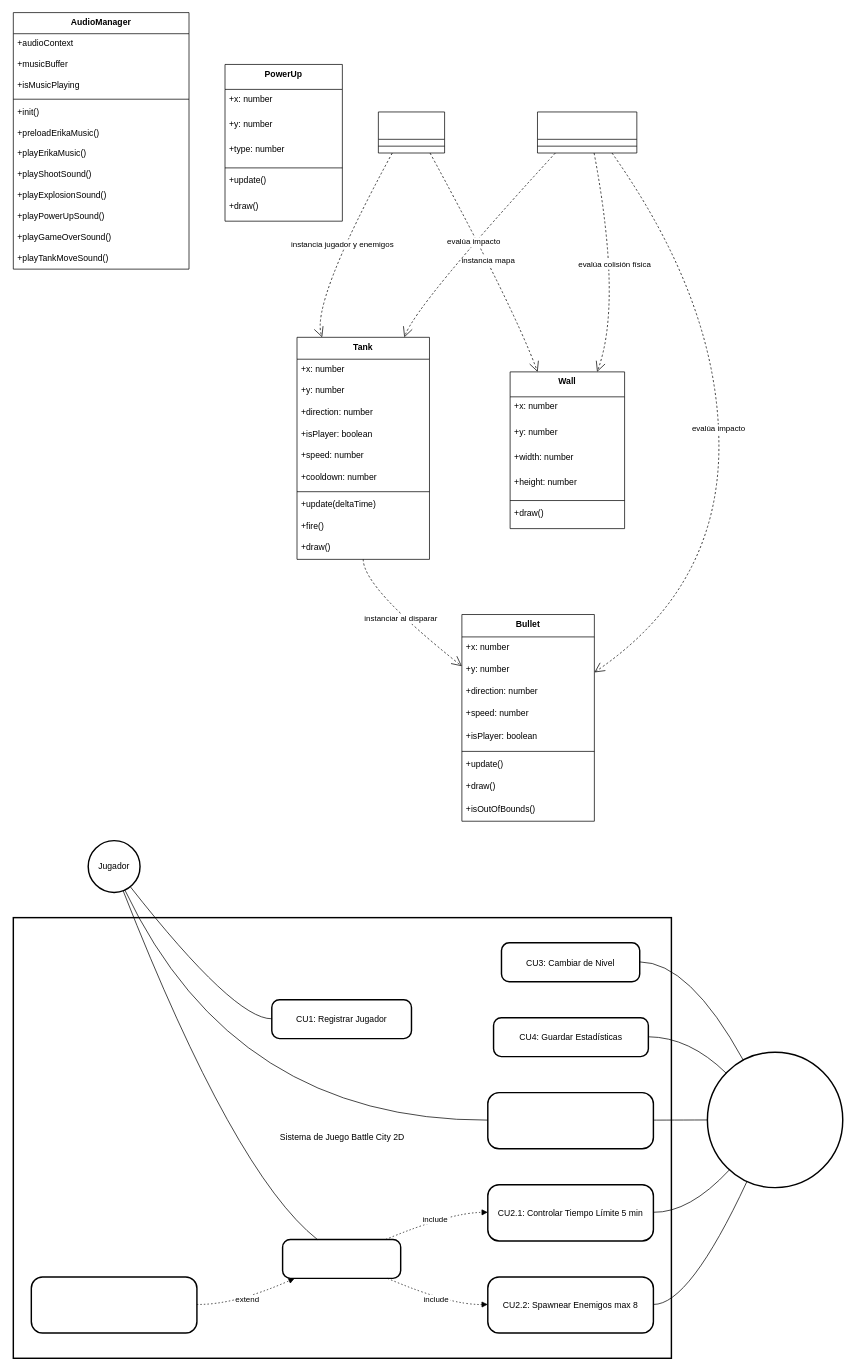
Image size: 855x1372. Some labels were removed from this diagram. The shapes that lost their labels are listed below. From the top down, each one's centre as x and y in pixels, then its label:
At (x=411, y=132): "initGame".
At (x=587, y=132): "checkCollisions".
At (x=570, y=1120): "CU5: Consultar Historial / Ranking".
At (x=774, y=1119): "Sistema / Base de Datos".
At (x=341, y=1258): "CU2: Jugar Partida".
At (x=113, y=1304): "CU2.3: Mejorar Tanque por Estrellas".
